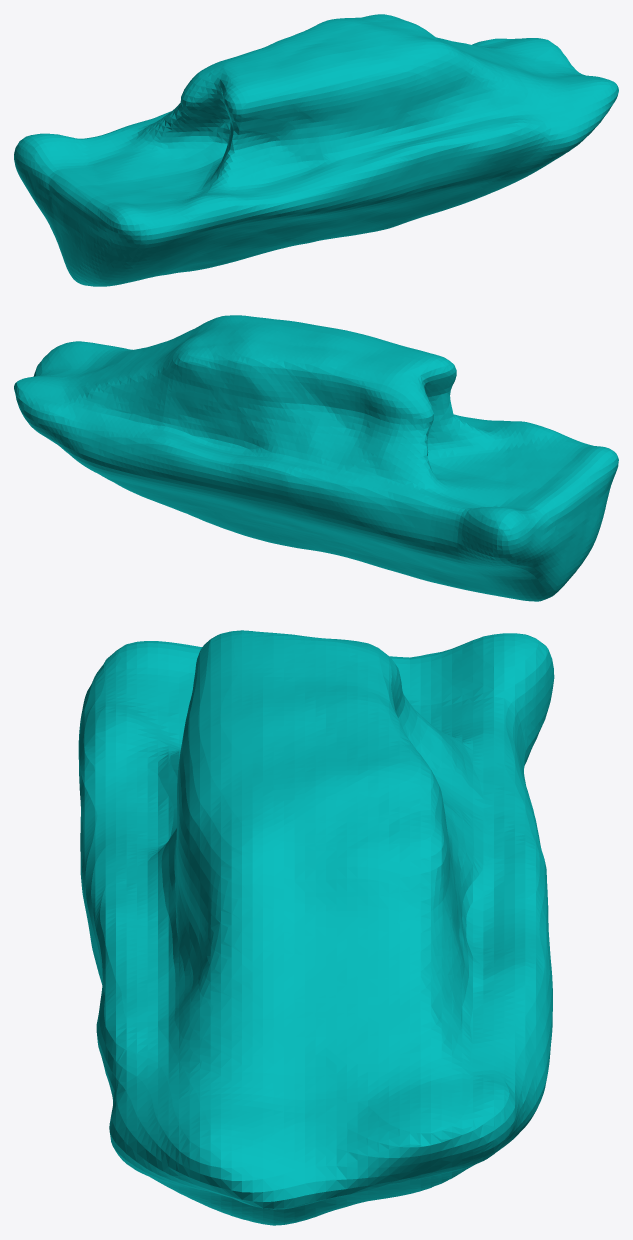
3 views of the same model, one above another, from view 1: azimuth 30°, elevation 25°; view 2: azimuth 150°, elevation 25°; view 3: azimuth 270°, elevation 25° (orthographic). The views are drawn at different scales.
Size of the model in its own units: 1.02 by 0.3637 by 0.3925.
